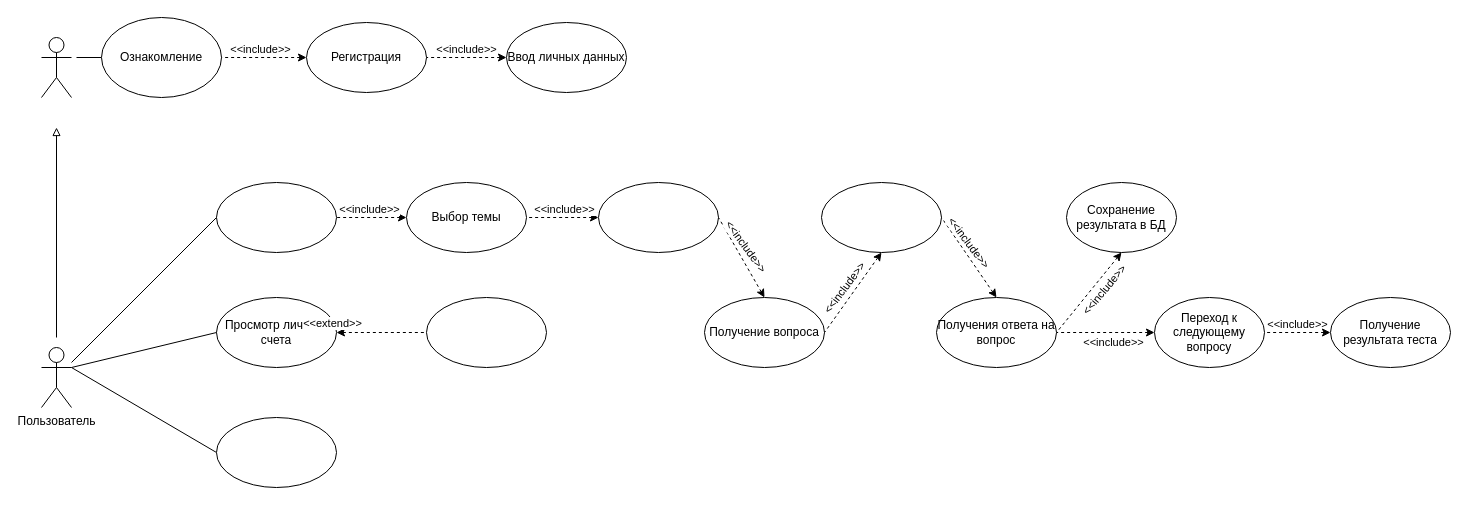
Some shapes in this 1468 by 505 pixel diagram are drawn without their labels. Here are the shapes that lost their labels. From the top down, the box of each, then its label:
(40, 36, 72, 98): Гость
(216, 182, 336, 252): Просмотр списка тем
(598, 182, 718, 252): Начало теста
(820, 182, 942, 252): Ответ на вопрос
(426, 296, 546, 368): Сброс прогресса
(216, 416, 336, 488): Просмотр таблицы лидеров
